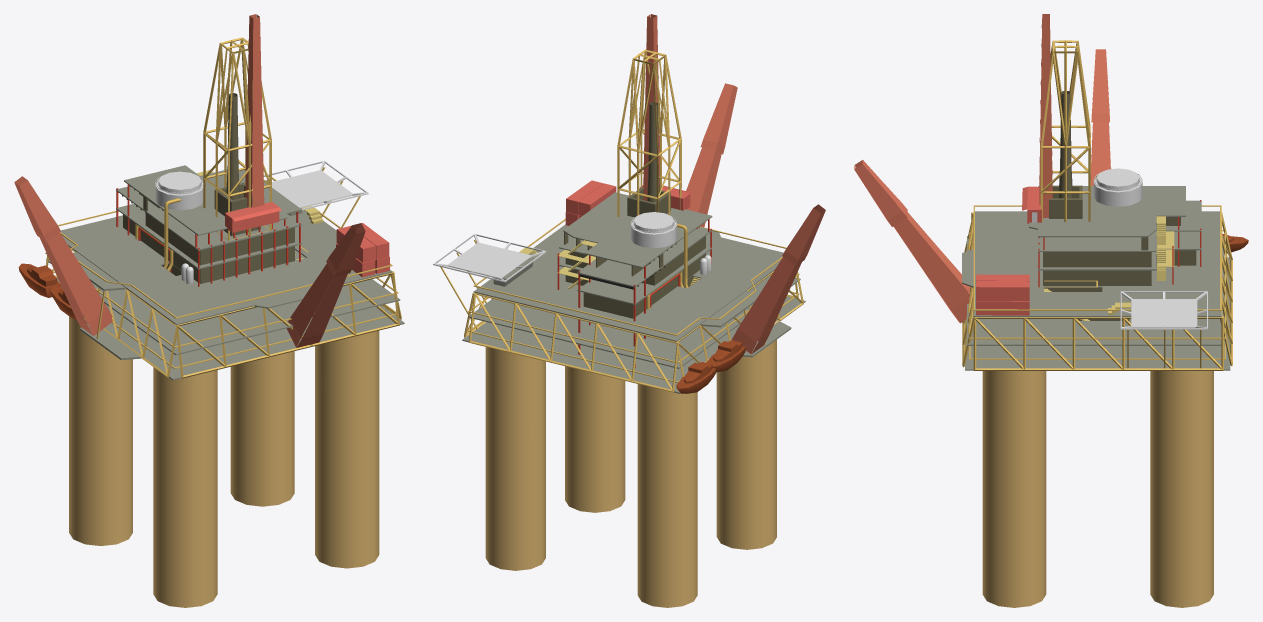
The model's file is oilPlatform.fbx.
The picture shows the model from 3 angles, left to right: view 1: azimuth 30°, elevation 25°; view 2: azimuth 150°, elevation 25°; view 3: azimuth 270°, elevation 25°; orthographic projection. The views are drawn at different scales.
Parts seen in each view (by area): view 1: Cylinder.003, Plane.005, Cube.021, Plane.006, Plane, Cube.002, Plane.013, Plane.012, Cube.015, Plane.011, Plane.007, Cube.004 (+9 smaller); view 2: Cylinder.003, Plane.005, Cube.021, Plane.006, Plane, Cube.015, Plane.013, Plane.012, Cube.002, Plane.007, Cube.004, Cylinder.004 (+10 smaller); view 3: Cylinder.003, Plane.005, Cube.021, Plane, Plane.006, Cube.015, Plane.012, Cube.002, Plane.007, Cube.004, Plane.013, Plane.011 (+8 smaller).
Boxes of the visible parts, left/top/right/bottom form: Cylinder.003: left=69, top=316, right=379, bottom=607; Plane.005: left=60, top=180, right=392, bottom=325; Cube.021: left=45, top=37, right=401, bottom=378; Plane.006: left=46, top=250, right=400, bottom=355; Plane: left=56, top=277, right=404, bottom=380; Cube.002: left=123, top=213, right=294, bottom=283; Plane.013: left=14, top=176, right=112, bottom=335; Plane.012: left=286, top=223, right=365, bottom=347; Cube.015: left=124, top=165, right=301, bottom=235; Plane.011: left=245, top=14, right=264, bottom=207; Plane.007: left=263, top=160, right=368, bottom=210; Cube.004: left=116, top=186, right=301, bottom=250; Cylinder.003: left=485, top=340, right=776, bottom=607; Plane.005: left=473, top=224, right=783, bottom=341; Cube.021: left=440, top=49, right=803, bottom=392; Plane.006: left=468, top=275, right=800, bottom=368; Plane: left=462, top=296, right=805, bottom=393; Cube.015: left=563, top=192, right=712, bottom=268; Plane.013: left=732, top=204, right=825, bottom=354; Plane.012: left=686, top=83, right=737, bottom=227; Cube.002: left=565, top=236, right=705, bottom=318; Plane.007: left=433, top=233, right=546, bottom=282; Cube.004: left=559, top=227, right=712, bottom=287; Cylinder.004: left=630, top=212, right=677, bottom=248; Cylinder.003: left=982, top=371, right=1213, bottom=607; Plane.005: left=962, top=211, right=1221, bottom=317; Cube.021: left=962, top=40, right=1232, bottom=370; Plane: left=965, top=257, right=1230, bottom=370; Plane.006: left=967, top=236, right=1224, bottom=345; Cube.015: left=1029, top=186, right=1185, bottom=237; Plane.012: left=854, top=160, right=972, bottom=323; Cube.002: left=1043, top=250, right=1196, bottom=320; Plane.007: left=1120, top=291, right=1208, bottom=329; Cube.004: left=1038, top=200, right=1201, bottom=251; Plane.013: left=1091, top=49, right=1110, bottom=185; Plane.011: left=1039, top=14, right=1052, bottom=217.
Size of the model in its own units: 312 by 450 by 297.
